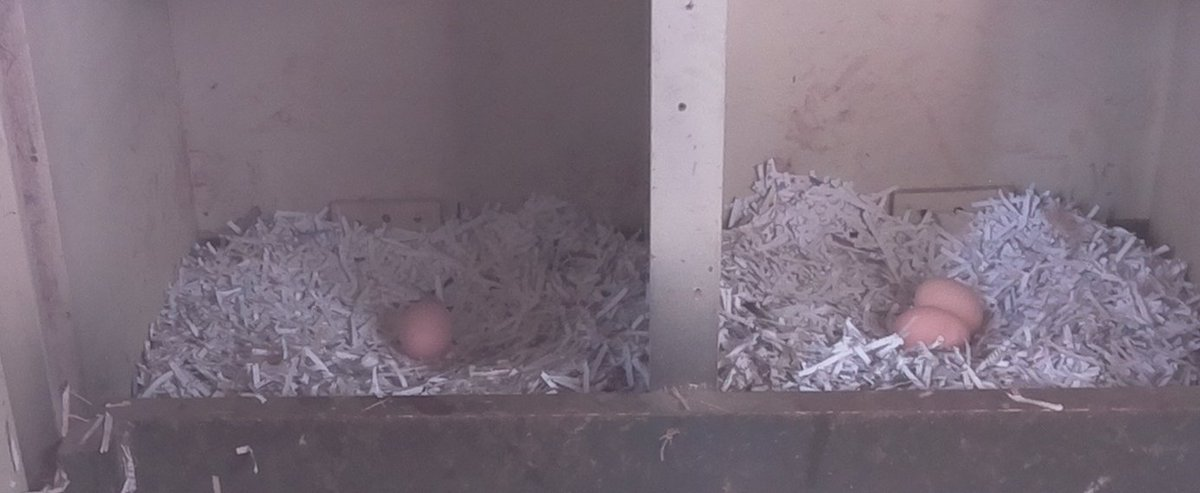egg: (911, 276, 986, 335), (888, 303, 973, 351), (394, 296, 456, 360)
